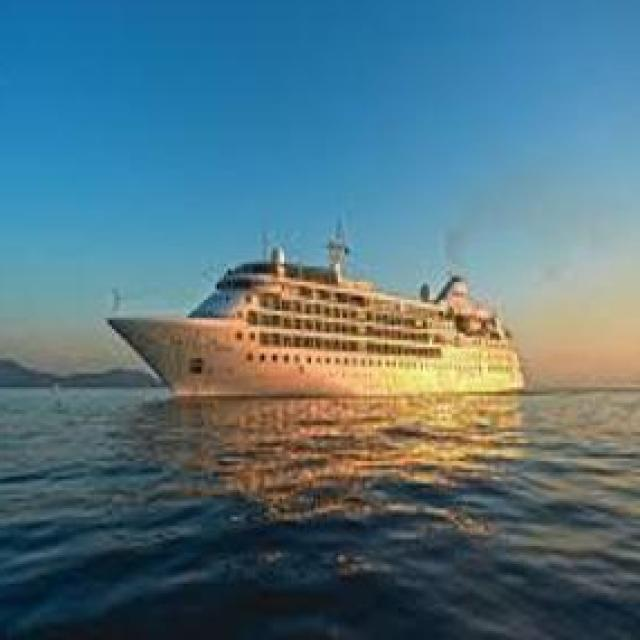passenger ship: (116, 224, 526, 400)
